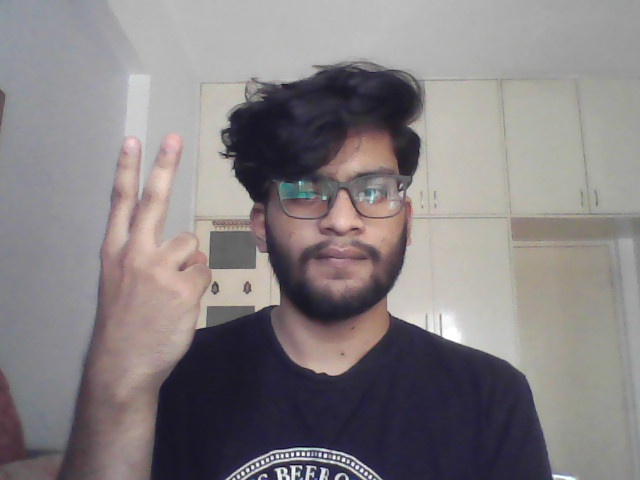Peace: (79, 130, 214, 384)
